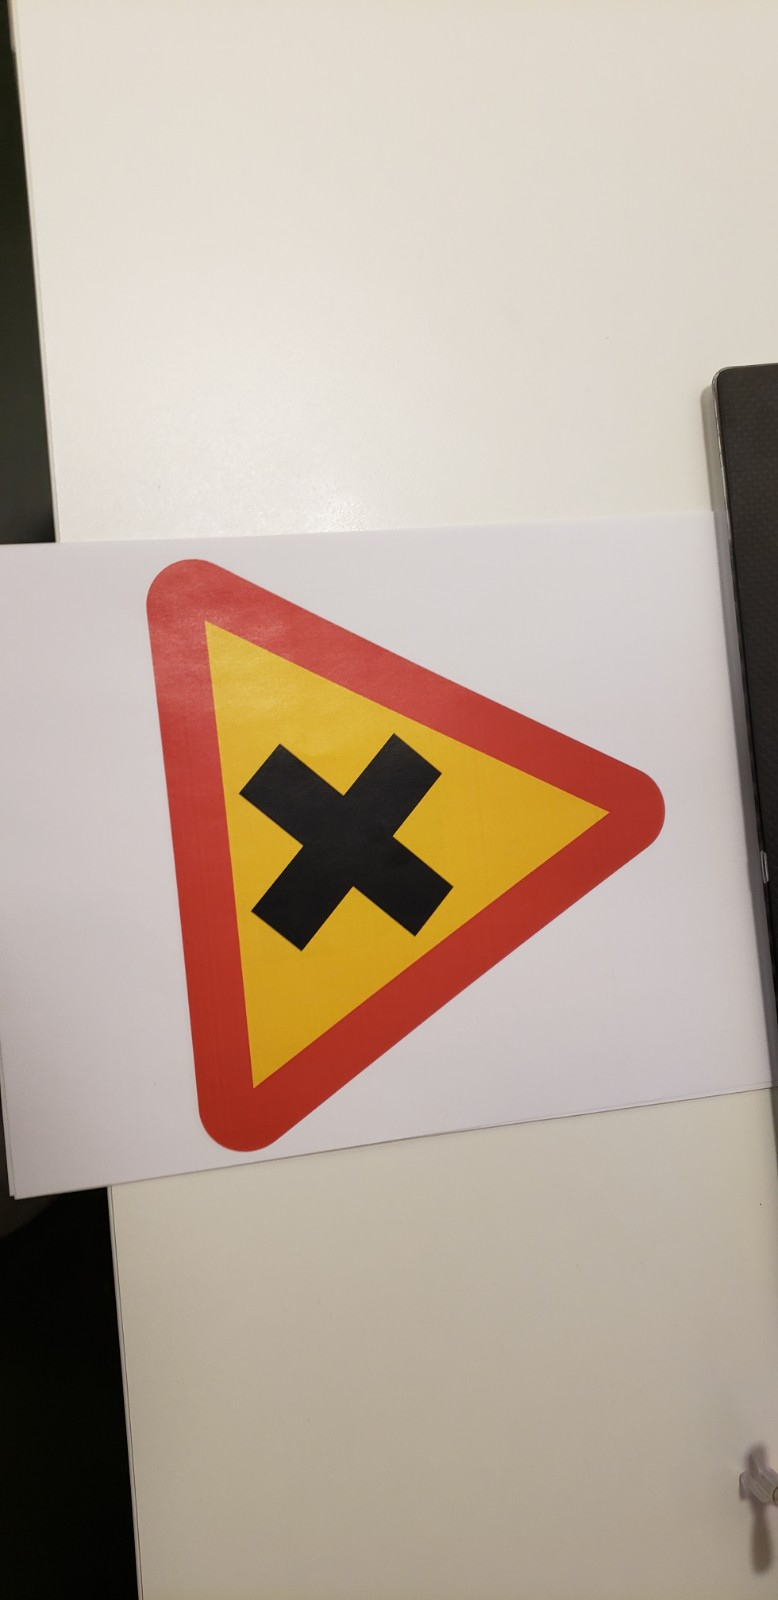junction: (92, 533, 678, 1226)
